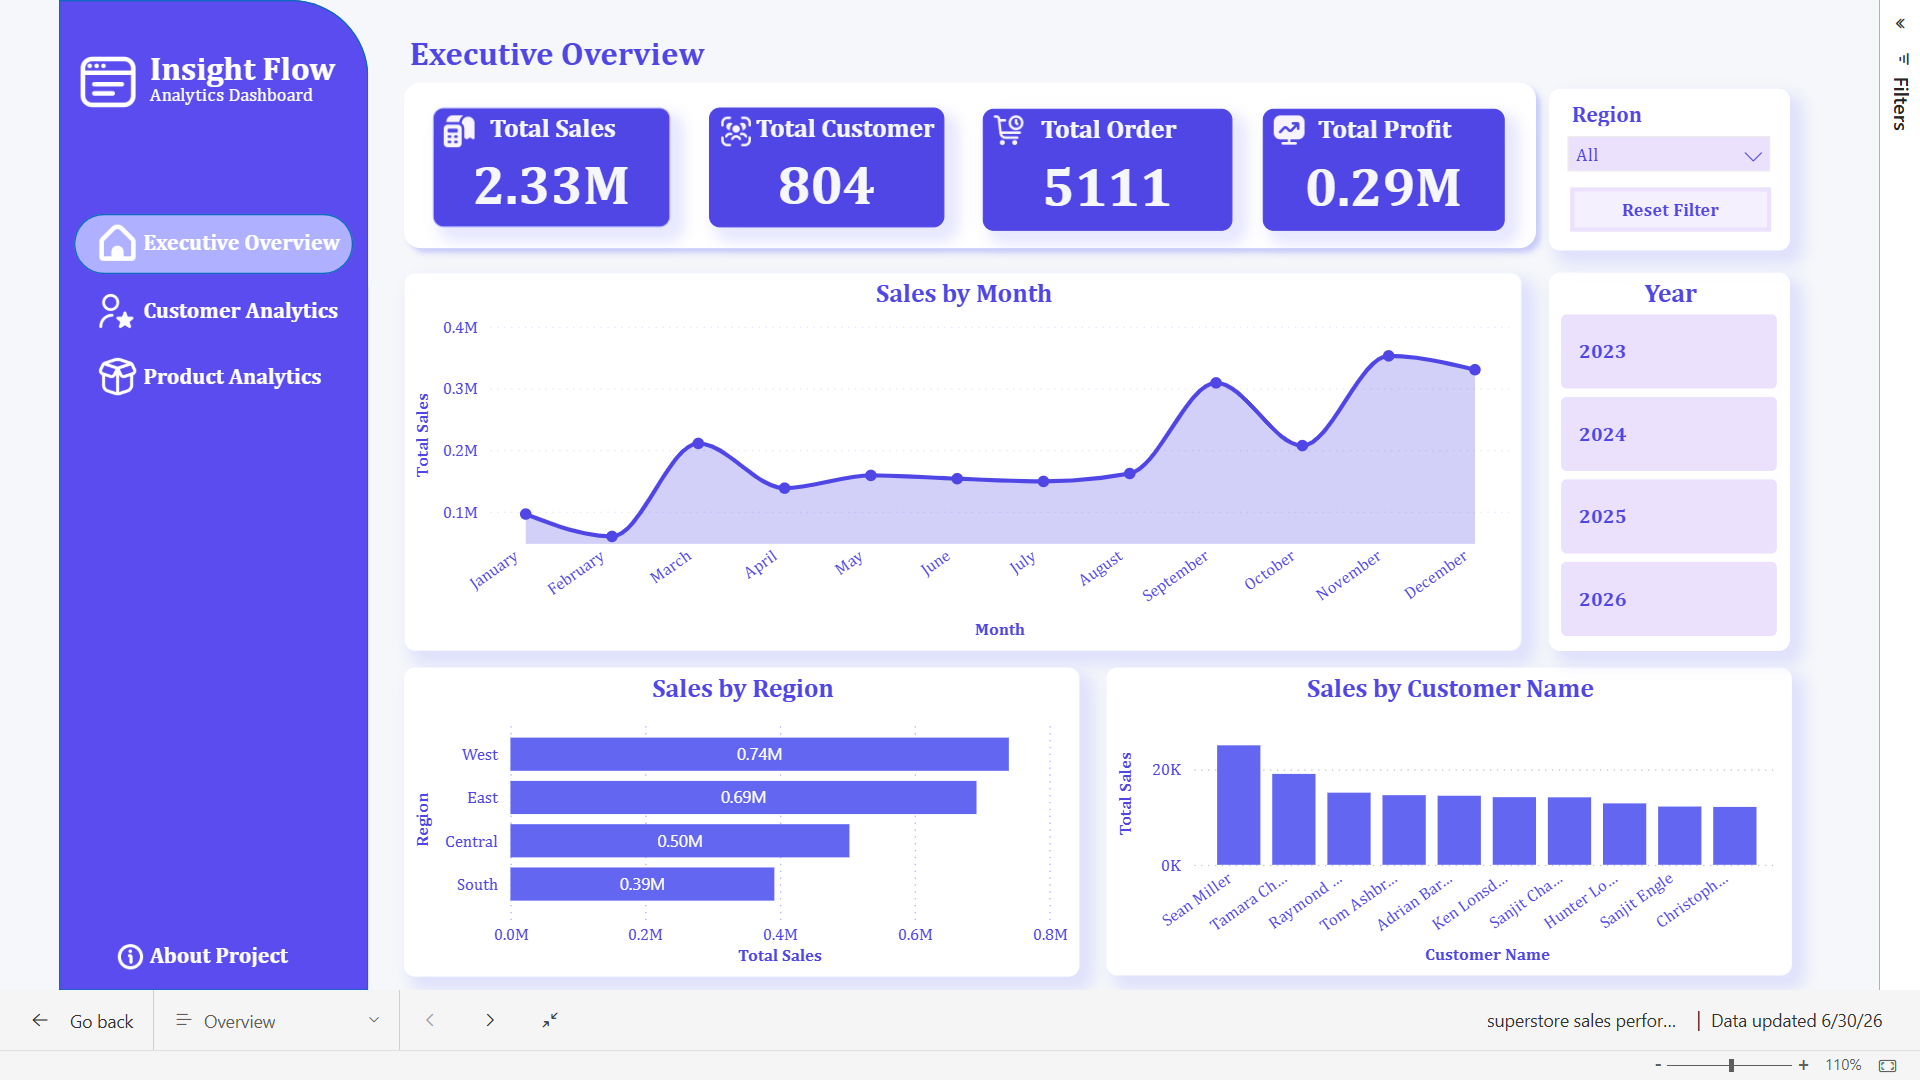

What the dashboard file says about the page in this screenshot:
{"tool":"powerbi","page":{"name":"Overview","canvas":[1280,720],"ordinal":0},"visuals":[{"type":"shape","box":[0,0,225,720.4],"z":0},{"type":"textbox","box":[61.1,30,170,41.1],"z":1000},{"type":"shape","box":[11,155,203.1,43.9],"z":1000,"group":"g3"},{"type":"textbox","box":[61.2,54.7,170,34.1],"z":2000},{"type":"image","box":[11.1,30,50,58.9],"z":3000},{"type":"textbox","box":[61.1,680,180,31.1],"z":4000},{"type":"textbox","box":[56.5,161.5,180,30.5],"z":5000,"group":"g3"},{"type":"image","box":[36.1,681.7,31.1,28.3],"z":5000},{"type":"group","id":"g1","title":"Group 1","box":[24.7,208.6,211.3,37],"z":6000},{"type":"group","id":"g2","title":"Group 2","box":[22,255.2,214.1,37],"z":7000},{"type":"image","box":[24.6,154.2,36.5,44.6],"z":8000,"group":"g3"},{"type":"textbox","box":[56.1,211.6,180,31.1],"z":8000,"group":"g1"},{"type":"group","id":"g3","title":"Group 4","box":[10.1,154.2,226.4,94.3],"z":9000},{"type":"textbox","box":[56.8,258.9,180,31.1],"z":9000,"group":"g2"},{"type":"shape","box":[241.4,50.9,841.4,138.6],"z":10000},{"type":"card","title":"Total Sales","fields":{"Values":["Sum(public superstore.sales)"]},"box":[271.4,78,172.9,87.1],"z":11000},{"type":"card","title":"Total Customer","fields":{"Values":["public superstore.Total Customers"]},"box":[472.9,78,171.4,87.1],"z":12000},{"type":"card","title":"Total Order","fields":{"Values":["public superstore.Total Orders"]},"box":[671.4,79.4,181.4,88.6],"z":13000},{"type":"card","title":"Total Profit","fields":{"Values":["Sum(public superstore.profit)"]},"box":[875.7,79.4,175.7,88.6],"z":14000},{"type":"image","box":[24.7,208.6,34.8,36.7],"z":14000,"group":"g1"},{"type":"lineChart","title":"Sales by Month","fields":{"Y":["Sum(public superstore.sales)"],"Category":["public superstore.order_date.Variation.Date Hierarchy.Month"]},"box":[250.7,198.1,813.2,275.1],"z":15000},{"type":"image","box":[22,255.2,40.9,37.3],"z":15000,"group":"g2"},{"type":"clusteredBarChart","title":"Sales by Region","fields":{"Category":["public vw_sales_region.region"],"Y":["Sum(public superstore.sales)"]},"box":[250.7,485.5,491.6,225],"z":16000},{"type":"clusteredColumnChart","title":"Sales by Customer Name","fields":{"Category":["public superstore.customer_name"],"Y":["Sum(public superstore.sales)"]},"box":[761.4,485.7,498.6,224.3],"z":17000},{"type":"advancedSlicerVisual","fields":{"Values":["public superstore.order_date.Variation.Date Hierarchy.Year"]},"box":[1083.3,198.1,175.3,275.1],"z":18000},{"type":"image","box":[271.4,79.4,38.6,32.9],"z":19000},{"type":"image","box":[473.3,80,37.5,31.7],"z":20000},{"type":"image","box":[671.7,79.2,38.3,31.7],"z":21000},{"type":"image","box":[875.7,78.6,38.6,32.9],"z":22000},{"type":"slicer","fields":{"Values":["public vw_region_performance.region"]},"box":[1083.4,64.8,174.9,117.4],"z":23000},{"type":"actionButton","box":[1099.1,136.3,146.1,32],"z":24000},{"type":"textbox","box":[250.4,19.5,242.1,40.3],"z":25000},{"type":"actionButton","box":[10.1,206.7,204.5,41.8],"z":25001,"group":"g3"},{"type":"actionButton","box":[10.9,253.6,204.5,41.8],"z":26000}]}

Visuals, with their boxes on the page's 1280x720 design canvas (x1, y1, x2, y2). These are canvas units, not pixel positions in the 1920x1080 screenshot, which may show the page scaled, cropped or inside an application window:
shape: BBox(0, 0, 225, 720)
textbox: BBox(61, 30, 231, 71)
shape: BBox(11, 155, 214, 199)
textbox: BBox(61, 55, 231, 89)
image: BBox(11, 30, 61, 89)
textbox: BBox(61, 680, 241, 711)
textbox: BBox(56, 162, 236, 192)
image: BBox(36, 682, 67, 710)
"Group 1" group: BBox(25, 209, 236, 246)
"Group 2" group: BBox(22, 255, 236, 292)
image: BBox(25, 154, 61, 199)
textbox: BBox(56, 212, 236, 243)
"Group 4" group: BBox(10, 154, 236, 248)
textbox: BBox(57, 259, 237, 290)
shape: BBox(241, 51, 1083, 190)
"Total Sales" card: BBox(271, 78, 444, 165)
"Total Customer" card: BBox(473, 78, 644, 165)
"Total Order" card: BBox(671, 79, 853, 168)
"Total Profit" card: BBox(876, 79, 1051, 168)
image: BBox(25, 209, 60, 245)
"Sales by Month" lineChart: BBox(251, 198, 1064, 473)
image: BBox(22, 255, 63, 292)
"Sales by Region" clusteredBarChart: BBox(251, 486, 742, 710)
"Sales by Customer Name" clusteredColumnChart: BBox(761, 486, 1260, 710)
advancedSlicerVisual - public superstore.order_date.Variation.Date Hierarchy.Year: BBox(1083, 198, 1259, 473)
image: BBox(271, 79, 310, 112)
image: BBox(473, 80, 511, 112)
image: BBox(672, 79, 710, 111)
image: BBox(876, 79, 914, 112)
slicer - public vw_region_performance.region: BBox(1083, 65, 1258, 182)
actionButton: BBox(1099, 136, 1245, 168)
textbox: BBox(250, 20, 492, 60)
actionButton: BBox(10, 207, 215, 248)
actionButton: BBox(11, 254, 215, 295)
